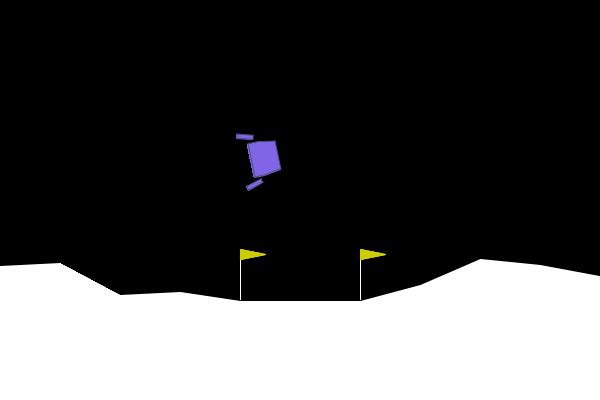lander: (234, 125, 286, 192)
